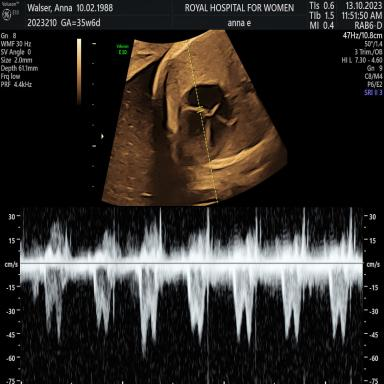Ultrasound-Waves: (26, 207, 362, 382)
